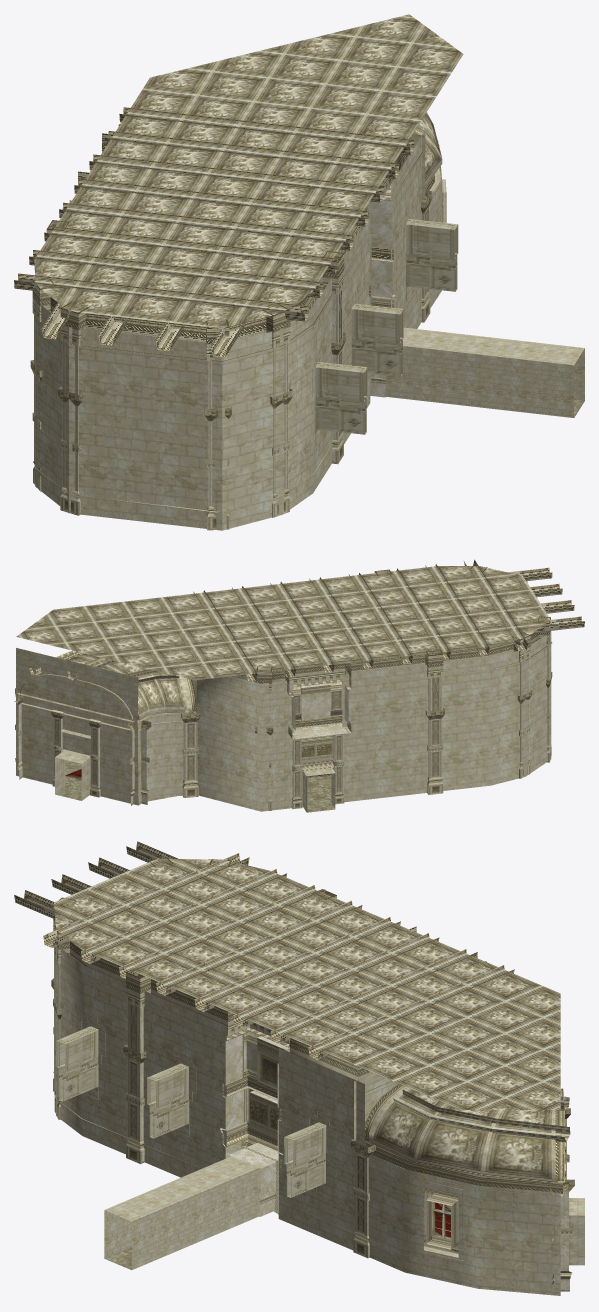
3 views of the same model, one above another, from view 1: azimuth 30°, elevation 25°; view 2: azimuth 150°, elevation 25°; view 3: azimuth 270°, elevation 25° (orthographic). The views are drawn at different scales.
Parts seen in each view (by area): view 1: Shape 1, Shape 2, Shape 0, Shape 14, Shape 4, Shape 8, Shape 5, Shape 6; view 2: Shape 2, Shape 1, Shape 0, Shape 8, Shape 5, Shape 4, Shape 16, Shape 6, Shape 3, Shape 7; view 3: Shape 1, Shape 2, Shape 0, Shape 14, Shape 8, Shape 4, Shape 5, Shape 7, Shape 6, Shape 3.
Boxes of the visible parts, x1,y1,x2,y2 form: Shape 1: (34, 14, 463, 328); Shape 2: (34, 130, 584, 530); Shape 0: (14, 51, 442, 530); Shape 14: (312, 206, 458, 442); Shape 4: (33, 179, 446, 528); Shape 8: (69, 169, 421, 526); Shape 5: (35, 207, 428, 506); Shape 6: (30, 190, 432, 421); Shape 2: (16, 631, 551, 812); Shape 1: (16, 566, 550, 716); Shape 0: (14, 559, 584, 810); Shape 8: (18, 678, 547, 806); Shape 5: (54, 646, 549, 798); Shape 4: (15, 646, 550, 807); Shape 16: (55, 760, 335, 812); Shape 6: (15, 672, 552, 739); Shape 3: (62, 738, 333, 761); Shape 7: (54, 751, 550, 810); Shape 1: (54, 858, 560, 1179); Shape 2: (54, 924, 584, 1295); Shape 0: (14, 841, 572, 1291); Shape 14: (56, 1015, 330, 1197); Shape 8: (141, 1007, 569, 1289); Shape 4: (53, 961, 570, 1284); Shape 5: (58, 963, 365, 1235); Shape 7: (55, 1047, 365, 1257); Shape 6: (51, 978, 574, 1205); Shape 3: (250, 1092, 278, 1136).
Size of the model in its own units: 4795 by 1545 by 4258.
